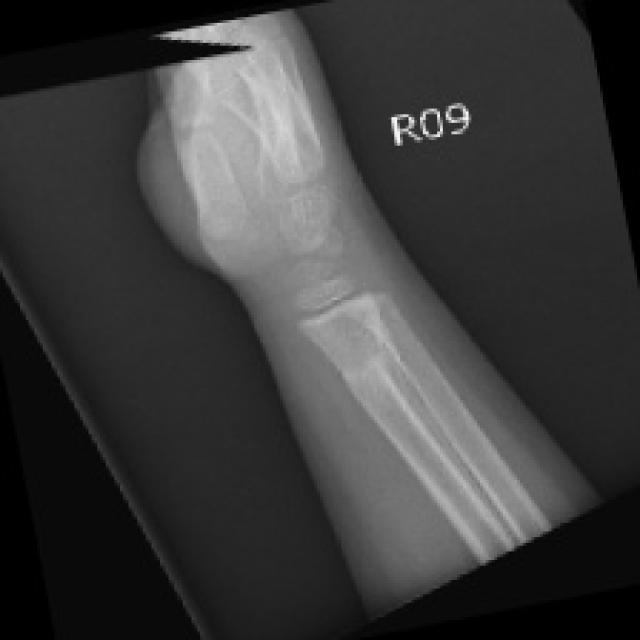fracture: (312, 322, 427, 430)
